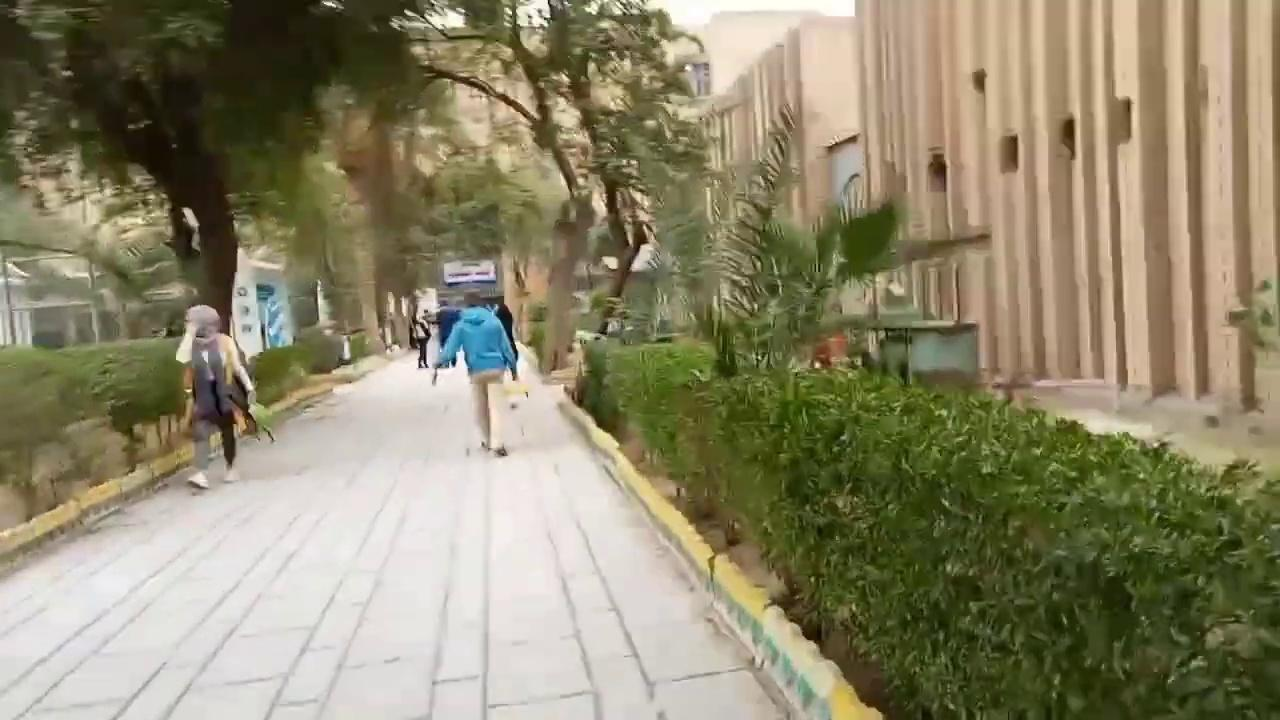person: (175, 303, 256, 488), (432, 289, 518, 456), (410, 313, 431, 368)
tree: (3, 0, 425, 345), (395, 0, 715, 372), (703, 101, 899, 374)
